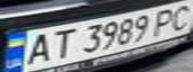3: (78, 21, 103, 54)
8: (115, 16, 139, 46)
9: (130, 11, 157, 43), (100, 19, 121, 51)
A: (18, 30, 57, 66)
C: (166, 1, 193, 31)
P: (148, 6, 184, 36)
T: (42, 26, 78, 61)
